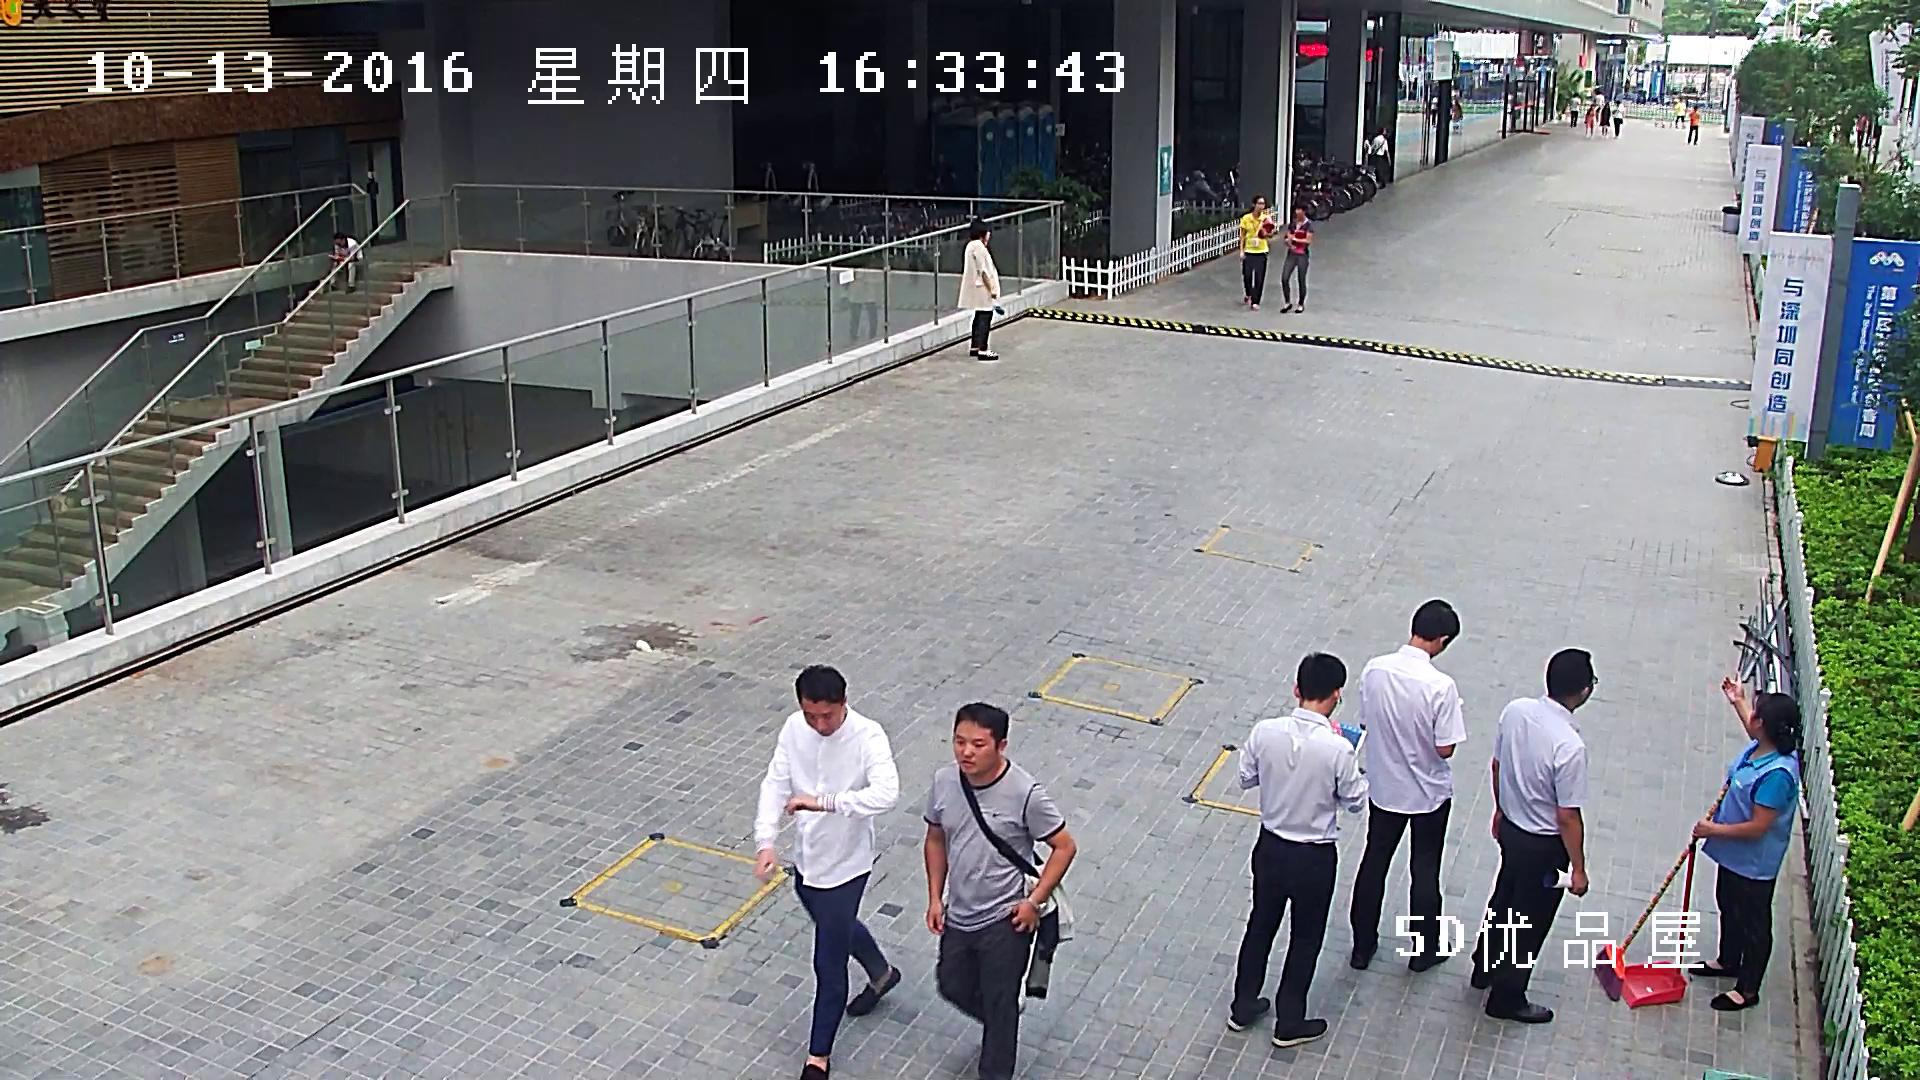person: (1592, 671, 1803, 1011), (753, 665, 901, 1080), (1222, 651, 1368, 1048), (924, 701, 1075, 1078), (1350, 599, 1466, 972), (1472, 646, 1587, 1021), (1686, 671, 1807, 1012), (957, 218, 1002, 360), (1239, 197, 1273, 309), (1280, 204, 1314, 314), (325, 231, 362, 290), (1373, 127, 1391, 188), (1584, 102, 1595, 139), (1674, 95, 1686, 128), (1687, 105, 1697, 144), (1600, 102, 1611, 134), (1568, 93, 1580, 125), (1613, 100, 1623, 136), (1855, 112, 1867, 143), (1429, 91, 1439, 126), (1873, 114, 1882, 140)
